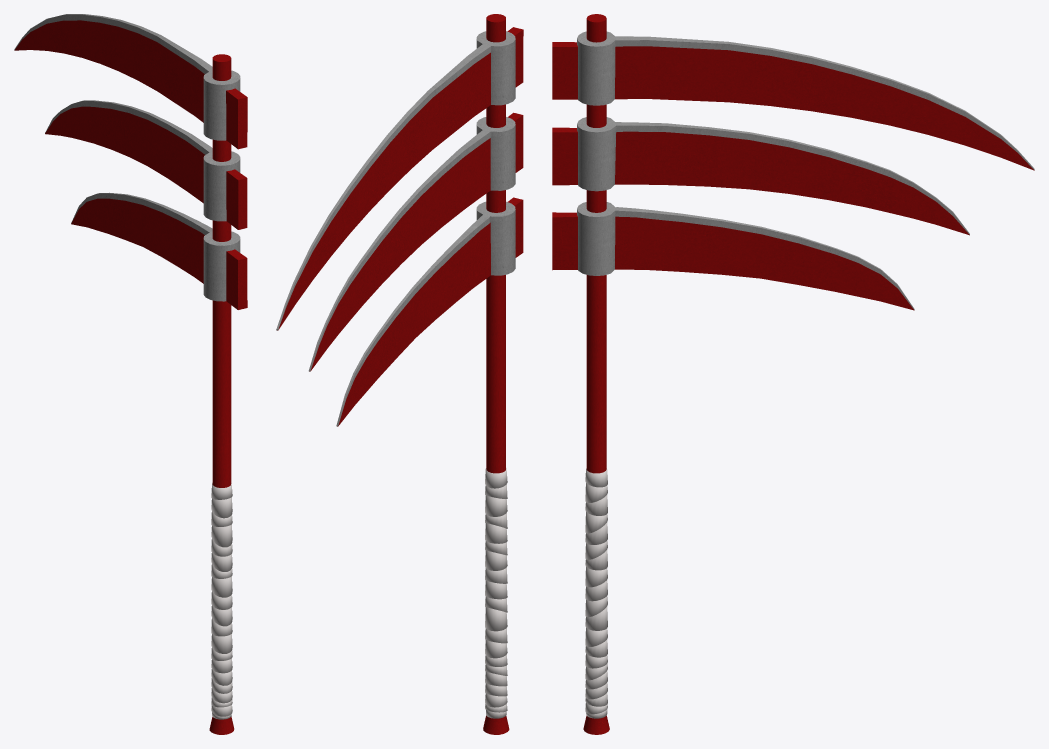
The model's file is uploads_files_2858414_TripleBladedScythe.fbx.
The picture shows the model from 3 angles, left to right: view 1: azimuth 30°, elevation 25°; view 2: azimuth 150°, elevation 25°; view 3: azimuth 270°, elevation 25°; orthographic projection. The views are drawn at different scales.
Parts seen in each view (by area): view 1: Blades, Covers, Handle, Wraps; view 2: Blades, Covers, Handle, Wraps; view 3: Blades, Covers, Handle, Wraps.
Boxes of the visible parts, x1=… form: Blades: x1=14, y1=20, x2=247, y2=309; Covers: x1=14, y1=14, x2=240, y2=301; Handle: x1=209, y1=54, x2=234, y2=734; Wraps: x1=211, y1=483, x2=232, y2=719; Blades: x1=277, y1=27, x2=523, y2=426; Covers: x1=276, y1=31, x2=515, y2=426; Handle: x1=483, y1=14, x2=509, y2=734; Wraps: x1=485, y1=468, x2=507, y2=718; Blades: x1=552, y1=42, x2=1034, y2=310; Covers: x1=577, y1=31, x2=1034, y2=309; Handle: x1=583, y1=14, x2=609, y2=734; Wraps: x1=585, y1=468, x2=607, y2=718.
Size of the model in its own units: 6.93 by 138 by 84.7.
